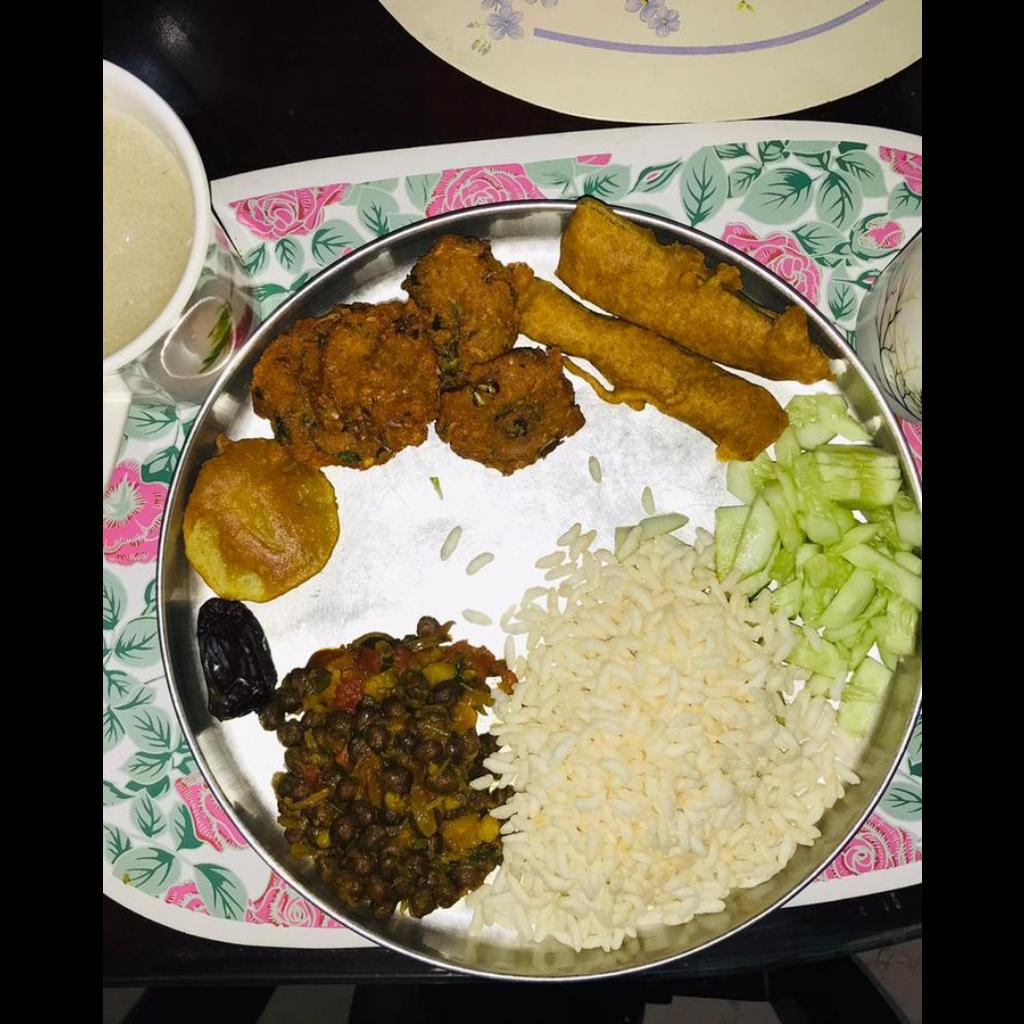beguni: (518, 200, 820, 456)
chola: (260, 618, 513, 918)
cucumber: (712, 393, 920, 736)
dates: (195, 594, 280, 720)
juice: (102, 89, 193, 360)
peyaju: (260, 240, 584, 474)
puffed-rice: (471, 529, 862, 944), (173, 433, 329, 591)
